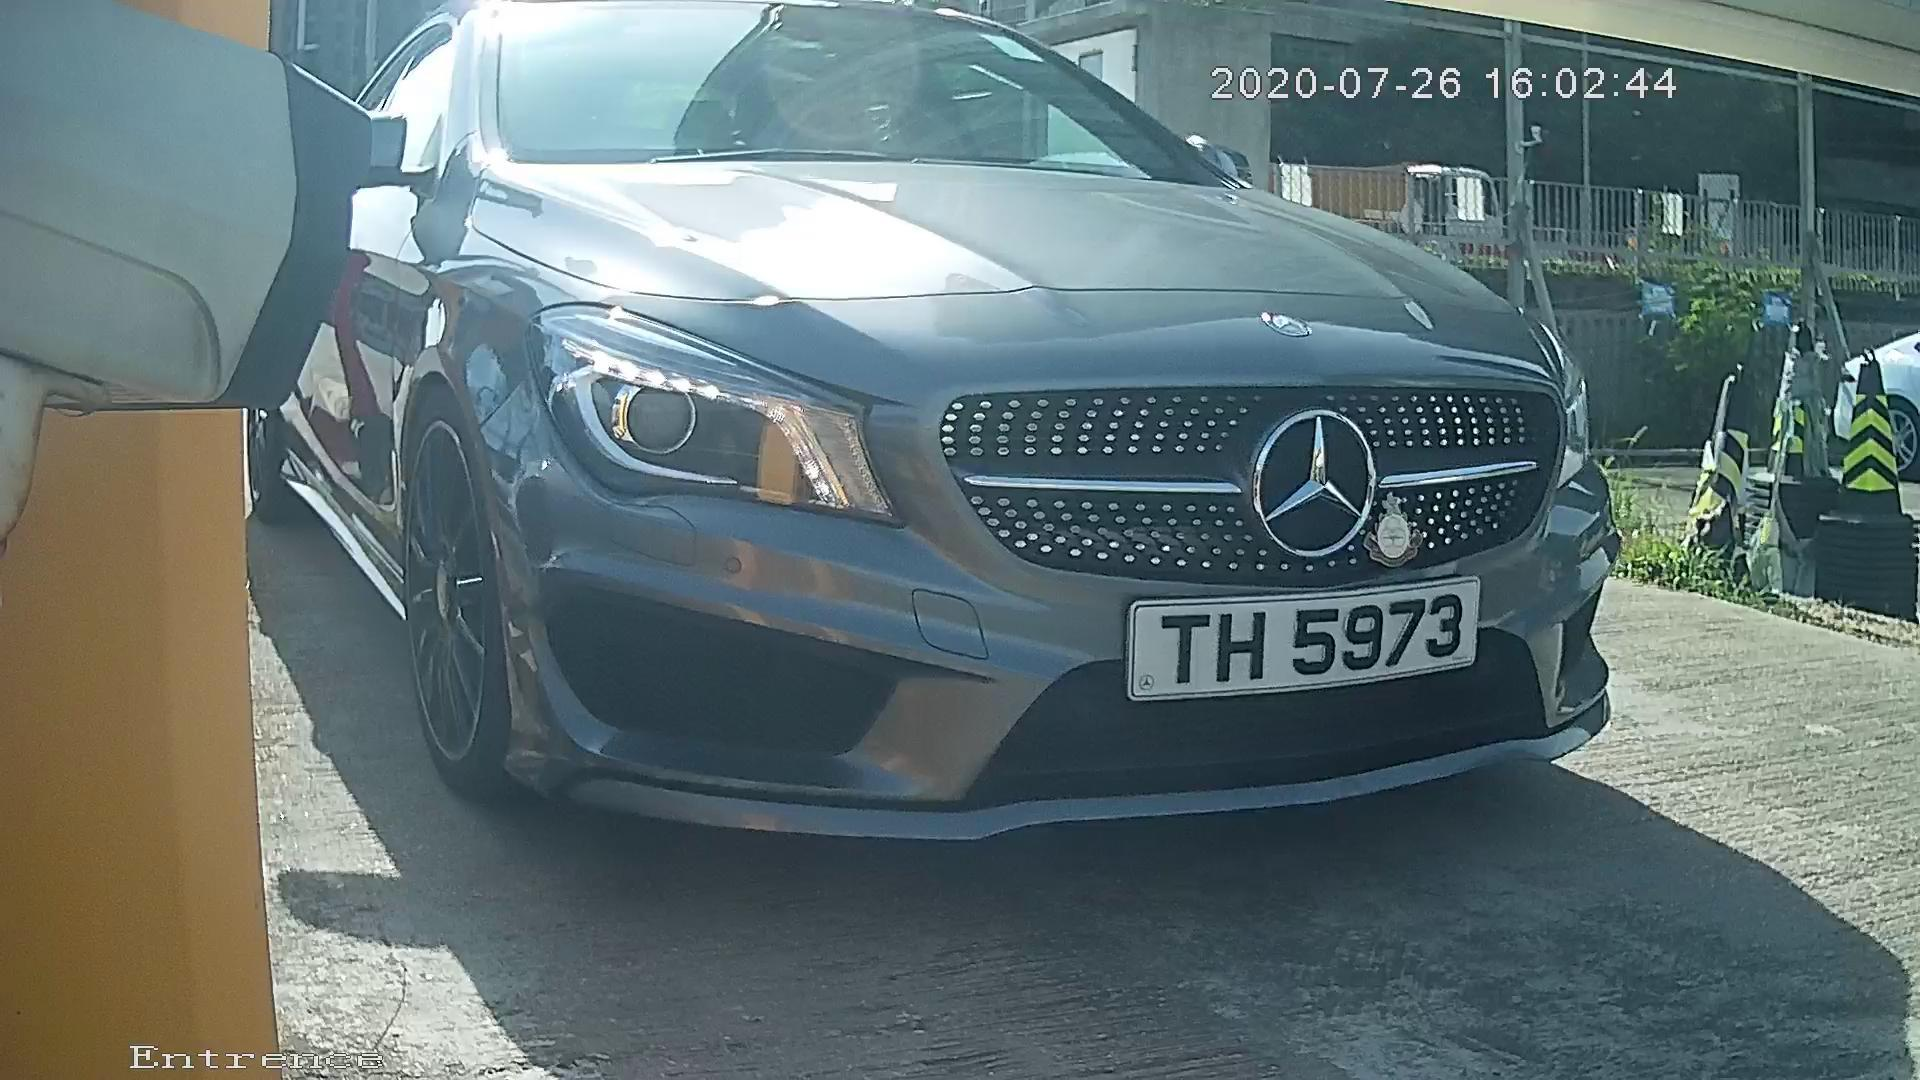privatecar: (241, 11, 1741, 942)
